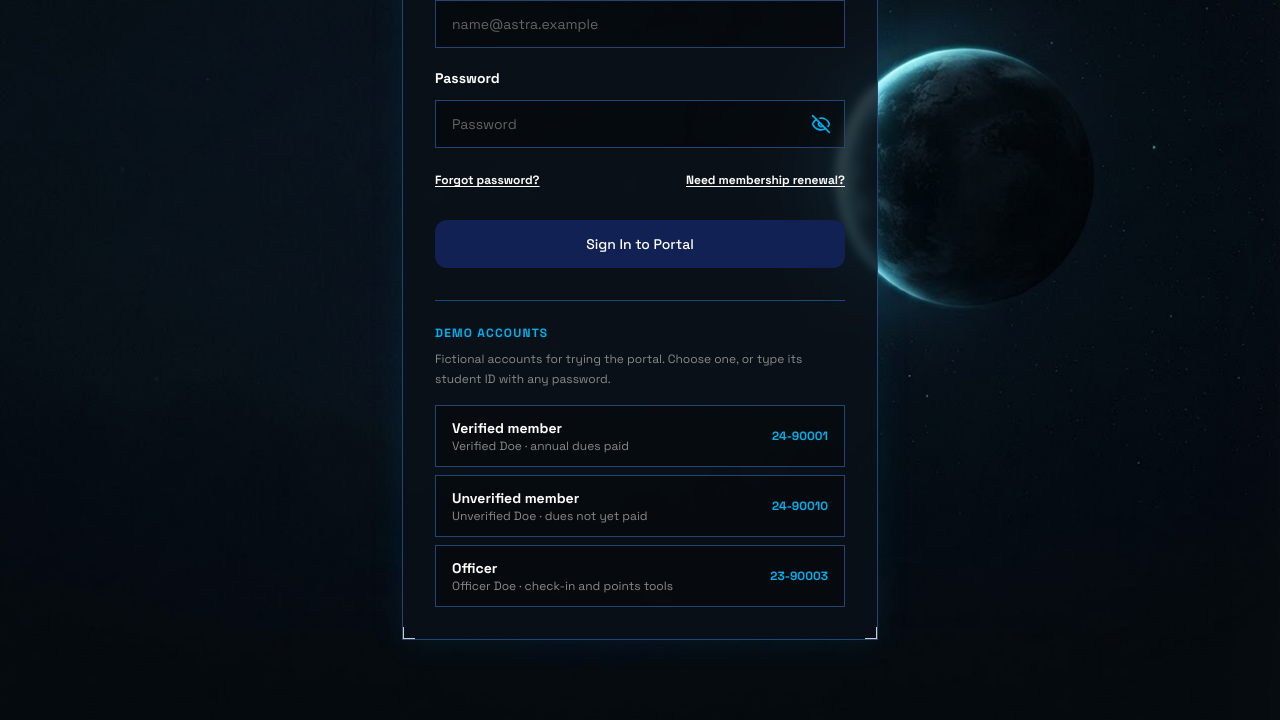
Test: portal shell › marks an unverified member in the header
This screenshot has width=1280, height=720.
(page scrolled)
Click the button "Unverified member" at (640, 506), box [435, 475, 845, 537]
(page scrolled)
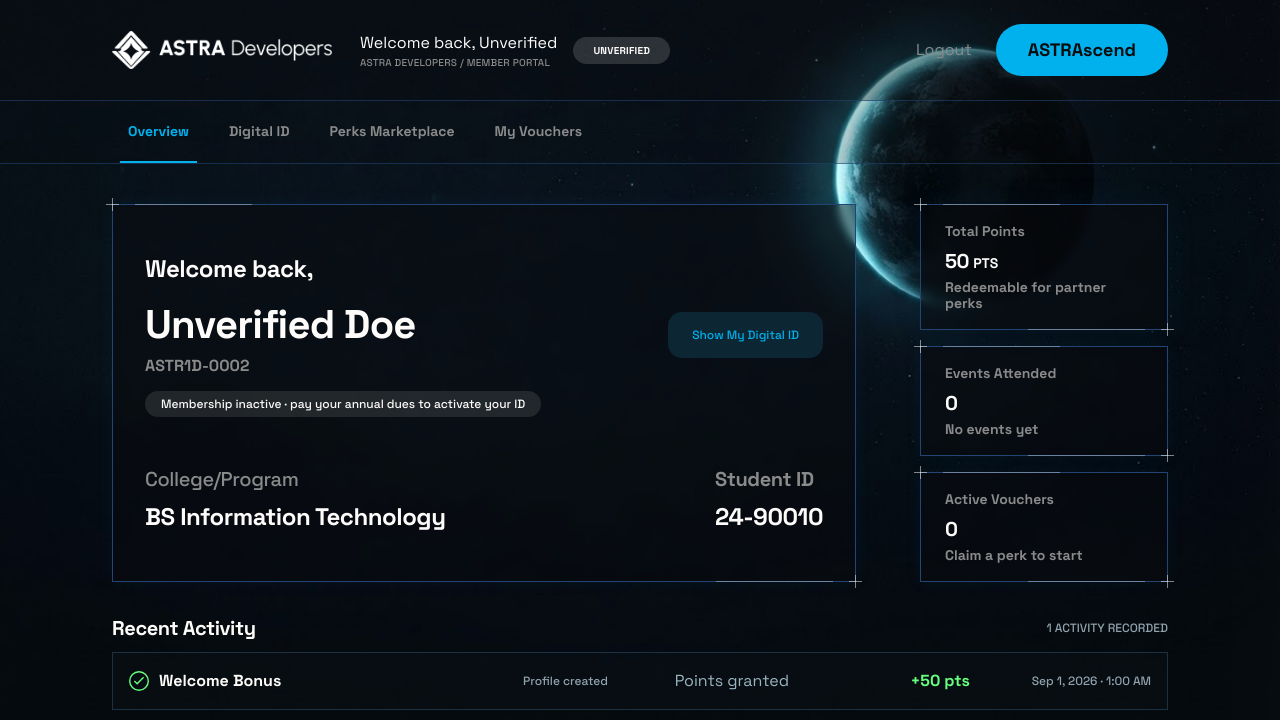
Expected: the text "Unverified" is shown, [573, 36, 670, 64]
